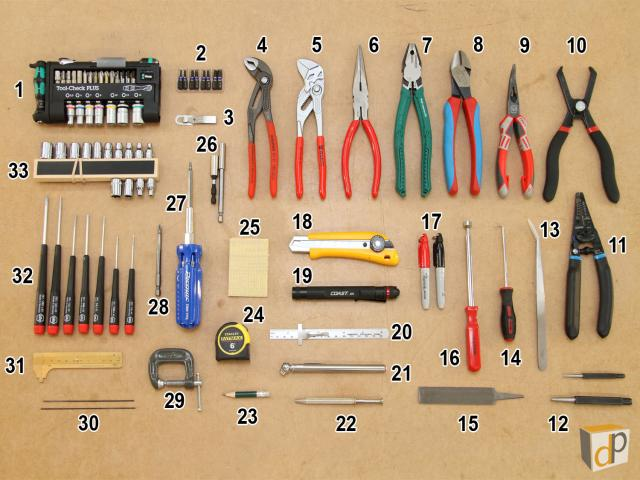Adjustable spanner: (244, 58, 279, 198), (295, 59, 326, 199)
Cutting pliers: (444, 51, 482, 195)
Needle-nose pliers: (542, 68, 620, 202), (341, 45, 381, 198), (495, 65, 534, 198)
Pliers: (394, 44, 431, 197)
Screwdriver: (176, 163, 202, 329), (464, 221, 481, 373), (497, 225, 516, 342), (34, 197, 49, 335), (48, 197, 61, 334), (62, 215, 76, 334), (92, 217, 105, 333), (79, 215, 90, 333), (125, 236, 135, 335), (109, 236, 119, 334)
Tape measure: (215, 322, 250, 361)
Utility knife: (289, 232, 399, 266)
